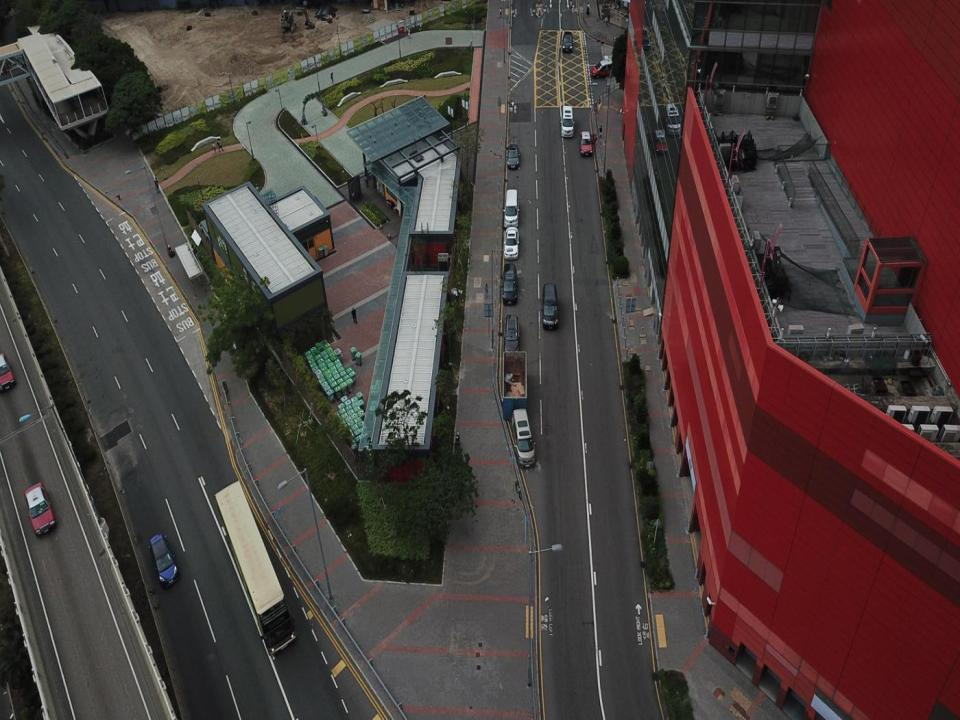bus: (215, 480, 297, 656)
car: (24, 479, 59, 536), (147, 532, 179, 587), (540, 280, 560, 330), (0, 342, 15, 396), (501, 261, 518, 307), (503, 312, 521, 352), (503, 224, 520, 260), (590, 57, 614, 78), (578, 128, 594, 158), (506, 142, 520, 172), (562, 29, 574, 53)
van: (511, 406, 536, 467), (502, 187, 520, 227), (560, 104, 574, 138)
